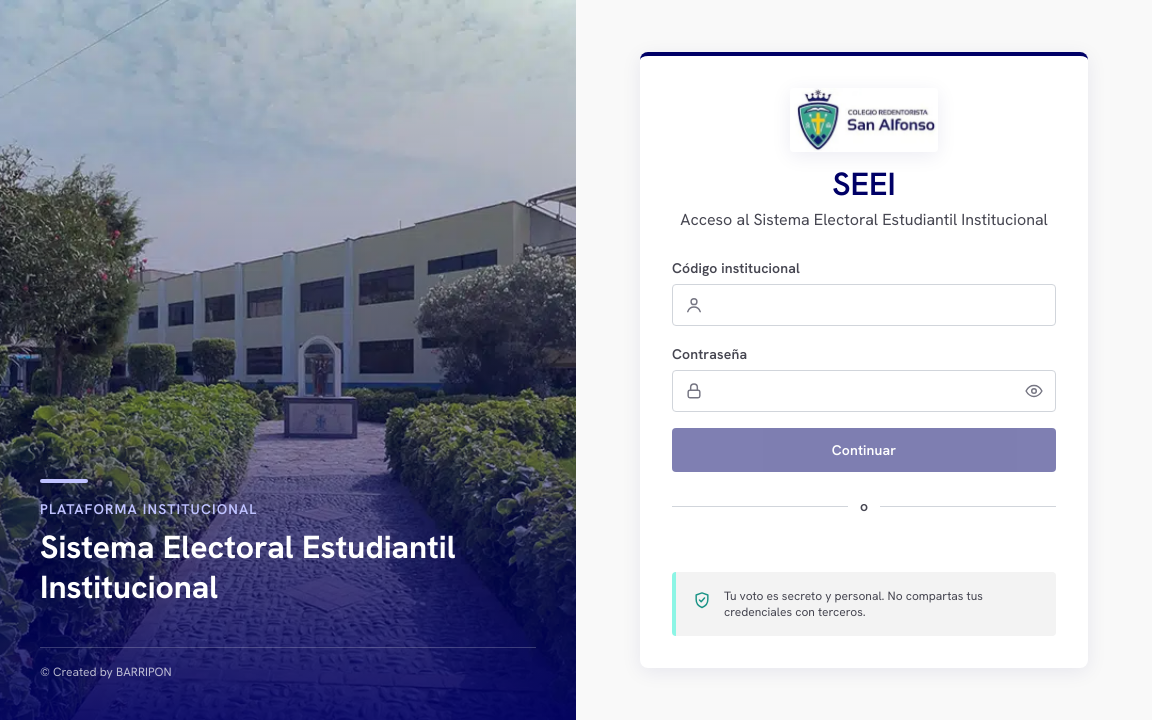
Flujo de login (App) › 401 deja el código tecleado y muestra "Credenciales inválidas"
In the field labelled "Código institucional": (864, 305) 672,284 -> 1056,326, type "seed-comite"
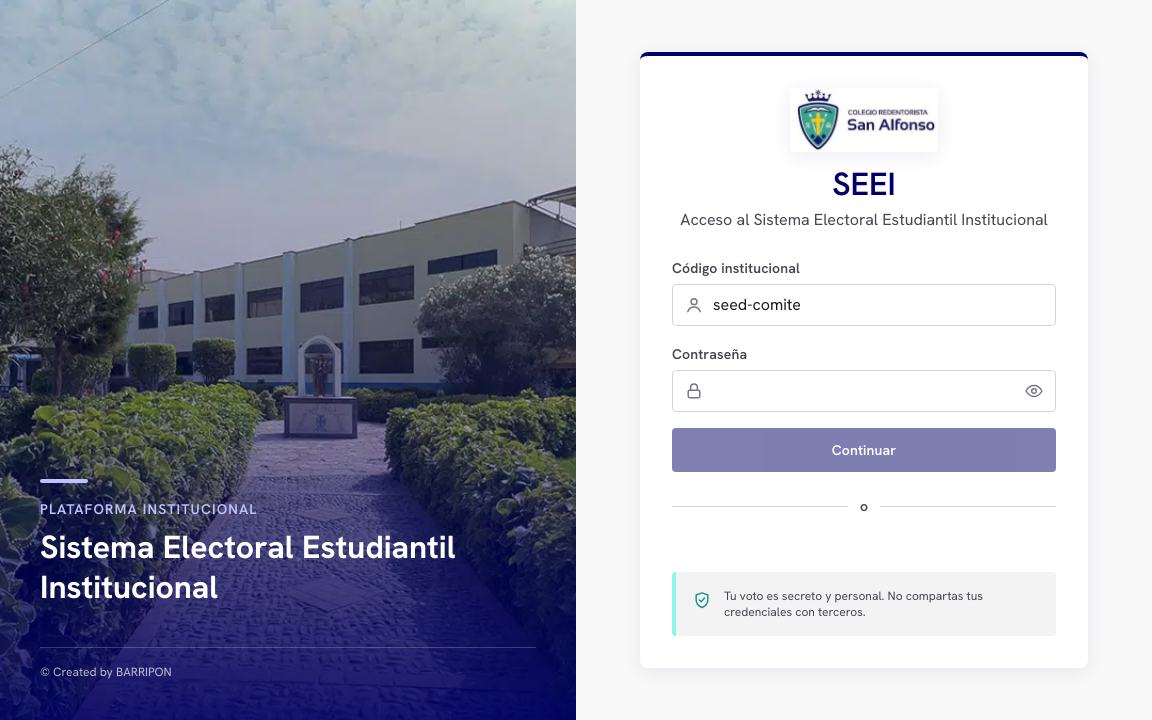
In the password field labelled "Contraseña": (864, 391) 672,370 -> 1056,412, type "clave-mala"
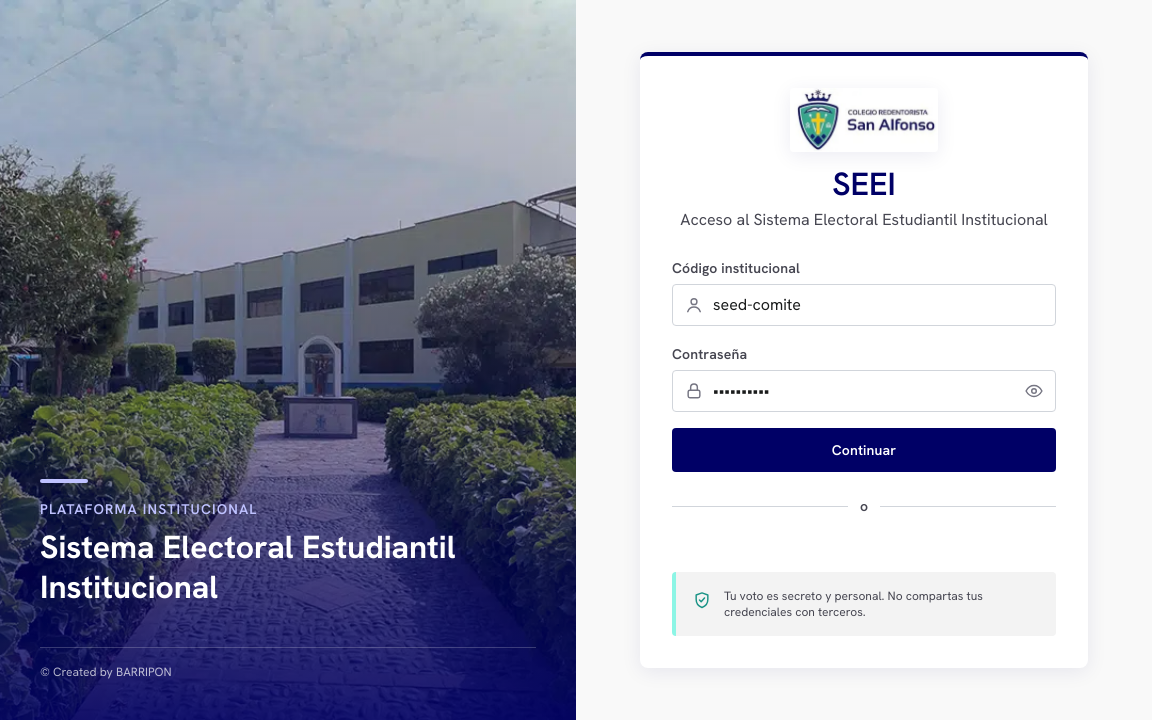
Click the button "Continuar": (864, 450) 672,428 -> 1056,472
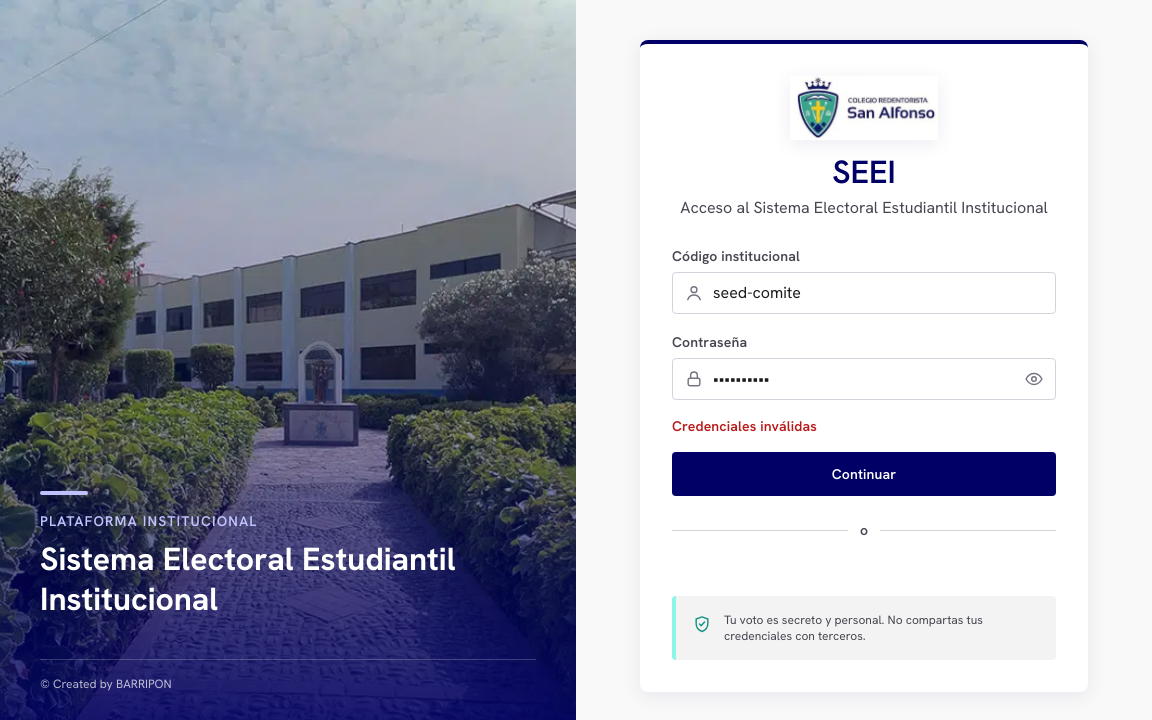
Expected: the text "Credenciales inválidas" is shown, 672,417 -> 817,435
